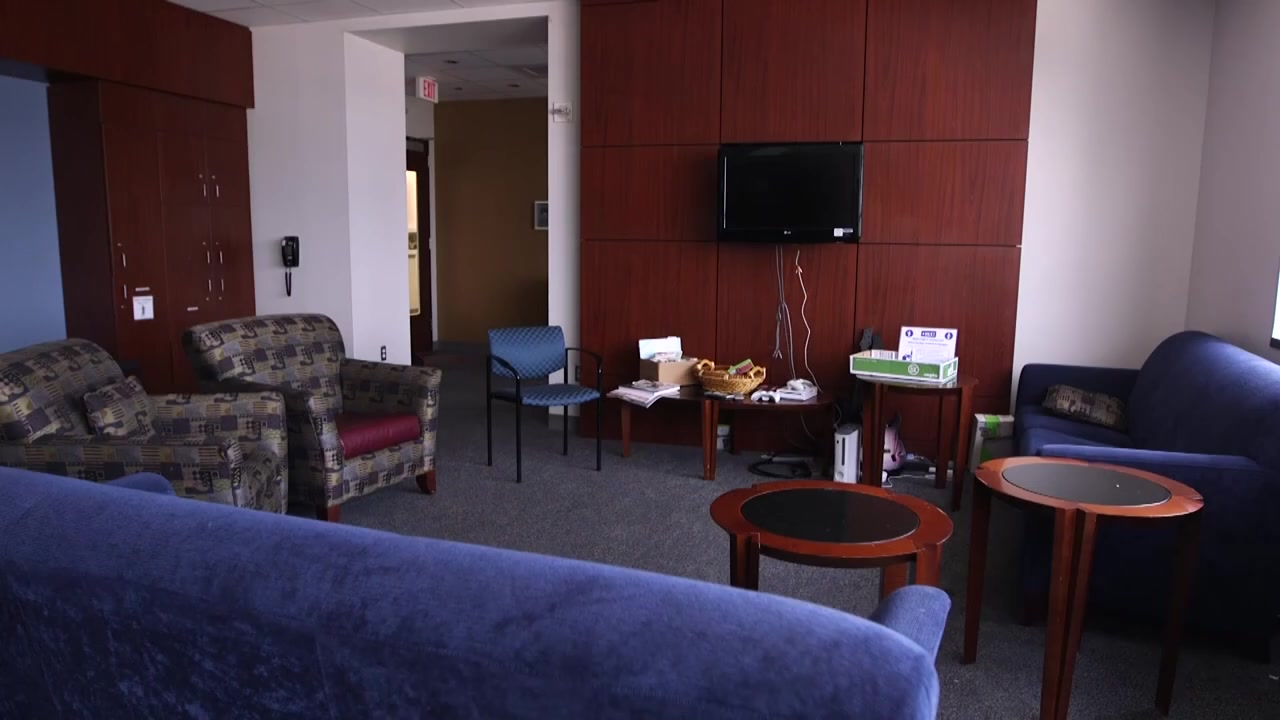TV: (717, 143, 867, 246)
cabinet: (42, 78, 259, 330)
chair: (487, 325, 603, 484)
handle: (121, 250, 127, 271), (214, 183, 221, 199), (218, 250, 224, 265), (203, 182, 208, 199), (206, 250, 212, 264), (220, 278, 225, 293), (123, 283, 127, 299), (208, 278, 212, 294)
sofa: (1, 462, 954, 720), (1008, 295, 1280, 666), (1, 339, 292, 534), (188, 313, 442, 525)
table: (958, 453, 1208, 720), (709, 478, 956, 647), (847, 367, 982, 487), (707, 379, 841, 489), (611, 373, 711, 471)
telephone: (276, 228, 307, 297)
